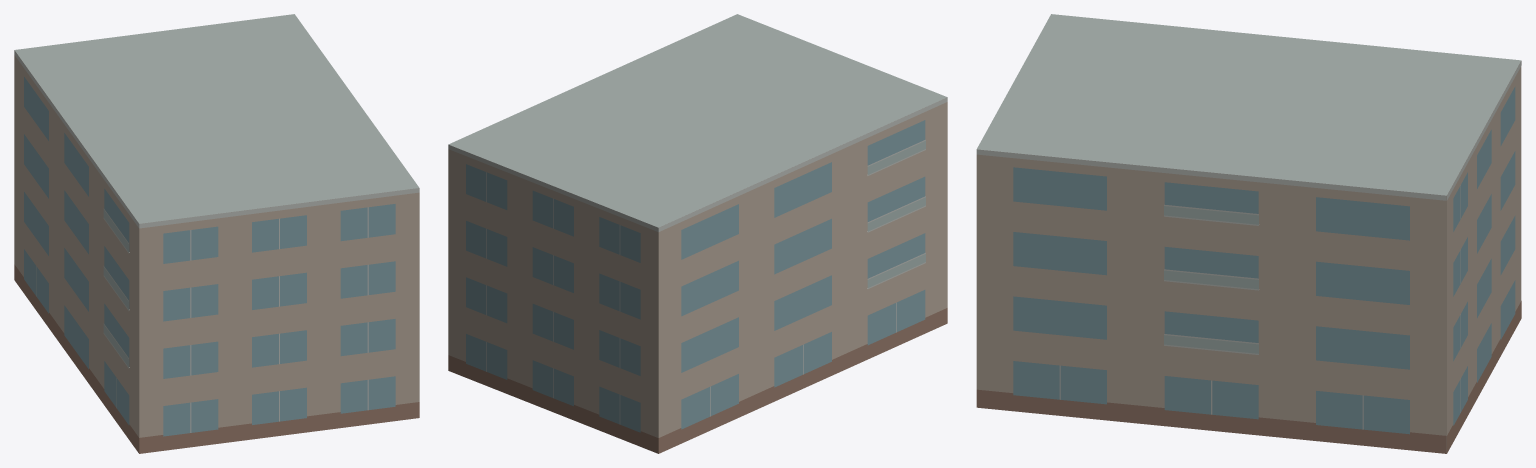
File: residential-8cb29fcf-8d62-4e15-83b0-7cbec015b815.glb
3 renders of one model, left to right at view 1: azimuth 30°, elevation 25°; view 2: azimuth 150°, elevation 25°; view 3: azimuth 270°, elevation 25°, orthographic. The views are drawn at different scales.
Parts seen in each view (by area): view 1: residential-8cb29fcf-8d62-4e15-83b0-7cbec015b815.tmp; view 2: residential-8cb29fcf-8d62-4e15-83b0-7cbec015b815.tmp; view 3: residential-8cb29fcf-8d62-4e15-83b0-7cbec015b815.tmp.
Boxes of the visible parts, x1,y1,x2,y2 form: residential-8cb29fcf-8d62-4e15-83b0-7cbec015b815.tmp: (14, 14, 419, 453); residential-8cb29fcf-8d62-4e15-83b0-7cbec015b815.tmp: (448, 14, 947, 453); residential-8cb29fcf-8d62-4e15-83b0-7cbec015b815.tmp: (976, 14, 1521, 453).
Size of the model in its own units: 18.42 by 12.2 by 23.34.
